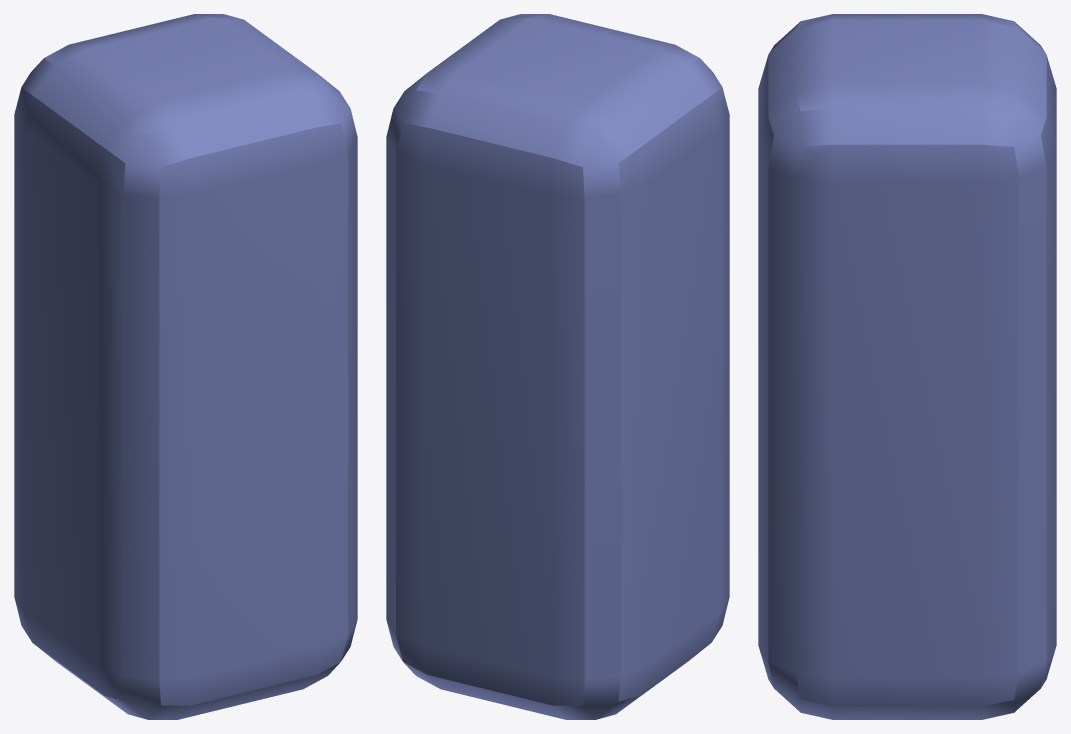
The model's file is Cube_Small.fbx.
3 renders of one model, left to right at view 1: azimuth 30°, elevation 25°; view 2: azimuth 150°, elevation 25°; view 3: azimuth 270°, elevation 25°, orthographic. The views are drawn at different scales.
Parts seen in each view (by area): view 1: Cube_Small; view 2: Cube_Small; view 3: Cube_Small.
Part boxes in pixels (box(x1,y1,x2,y2)): Cube_Small: box(14, 14, 357, 719); Cube_Small: box(386, 14, 729, 719); Cube_Small: box(758, 14, 1056, 719).
Bounding box in the file's own units: 1.95 × 4.53 × 1.95.
